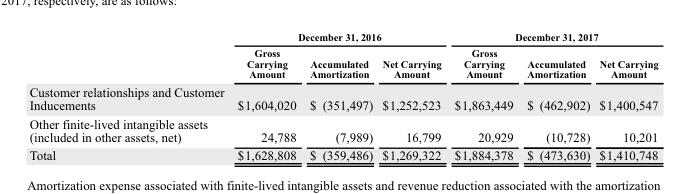table: (28, 29, 657, 163)
table column: (28, 29, 230, 163), (302, 29, 376, 163), (519, 29, 593, 163), (230, 29, 302, 163), (447, 29, 519, 163), (376, 29, 447, 163), (593, 29, 657, 163)
table column header: (28, 29, 657, 81)
table row: (28, 44, 657, 81), (28, 81, 657, 114), (28, 114, 657, 145), (28, 145, 657, 163), (28, 29, 657, 44)
table spanning cell: (230, 29, 447, 44), (447, 29, 657, 44)
